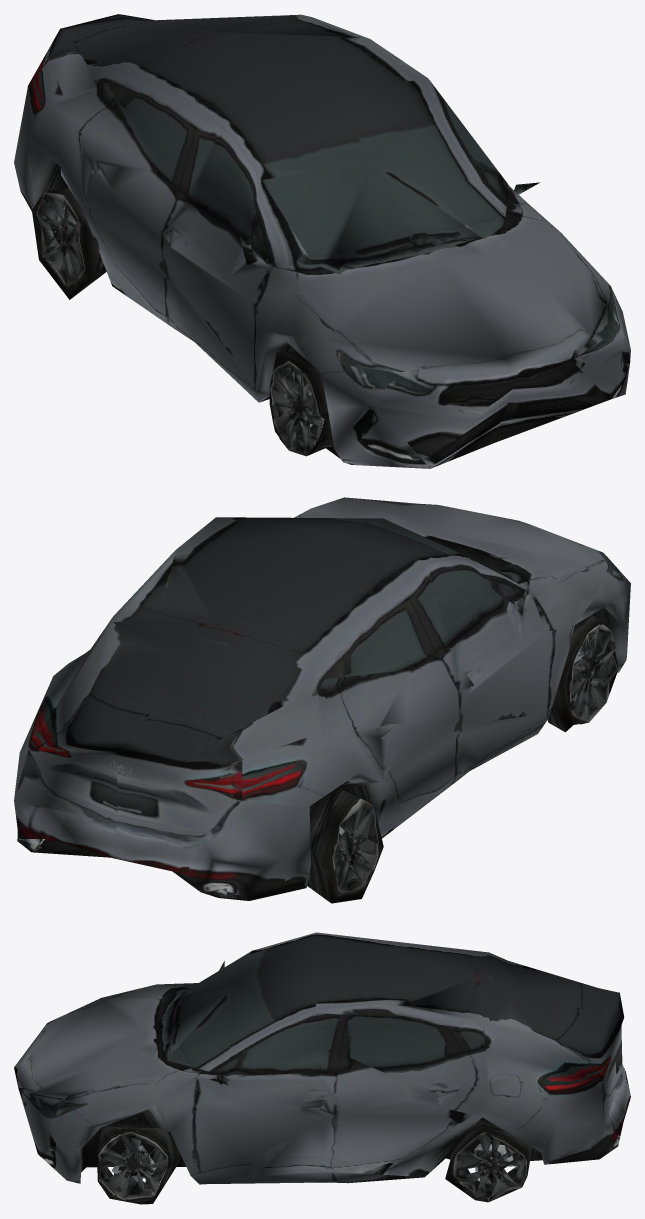
The model's file is car_hatch_lod1.glb.
3 renders of one model, top to bottom at view 1: azimuth 30°, elevation 25°; view 2: azimuth 150°, elevation 25°; view 3: azimuth 270°, elevation 25°, orthographic. The views are drawn at different scales.
Parts seen in each view (by area): view 1: tripo_node_8ab59725-be6d-47f6-b91d-43924e323fd1; view 2: tripo_node_8ab59725-be6d-47f6-b91d-43924e323fd1; view 3: tripo_node_8ab59725-be6d-47f6-b91d-43924e323fd1.
Part boxes in pixels (left/top/right/bottom): tripo_node_8ab59725-be6d-47f6-b91d-43924e323fd1: left=14, top=14, right=630, bottom=468; tripo_node_8ab59725-be6d-47f6-b91d-43924e323fd1: left=14, top=497, right=630, bottom=903; tripo_node_8ab59725-be6d-47f6-b91d-43924e323fd1: left=14, top=932, right=630, bottom=1204.
Size of the model in its own units: 1.76 by 1.39 by 4.03.
Materials: 1 (1 with a texture image).
